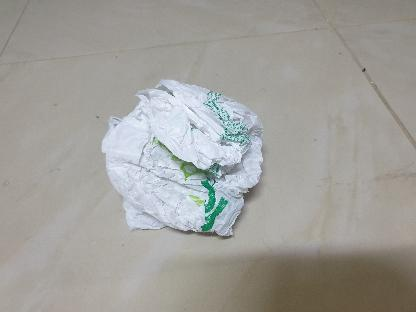Plastic Bag: (98, 75, 266, 242)
